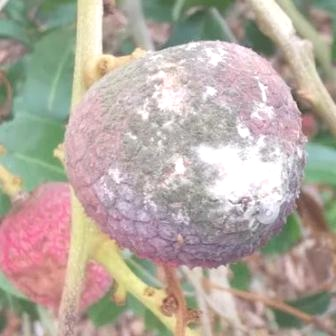Anthracnose: (125, 72, 278, 242)
